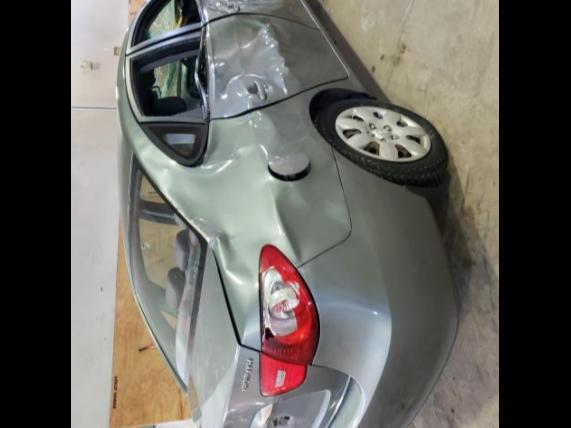Broken part: (126, 13, 348, 128), (126, 0, 318, 56), (260, 244, 320, 364), (140, 122, 208, 166), (268, 152, 312, 180)
Cracked: (260, 352, 306, 394)
Dent: (142, 144, 296, 284), (208, 18, 340, 116), (278, 152, 352, 260), (206, 96, 312, 170), (201, 0, 310, 20), (222, 400, 266, 428), (340, 224, 362, 248)
Flaking: (382, 386, 420, 428)
Missing part: (132, 36, 206, 116), (132, 0, 200, 46), (268, 416, 302, 428)
Paint chip: (263, 416, 272, 428), (232, 416, 248, 420)
